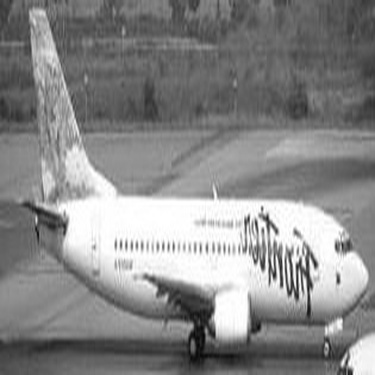airplane: (4, 12, 362, 346)
